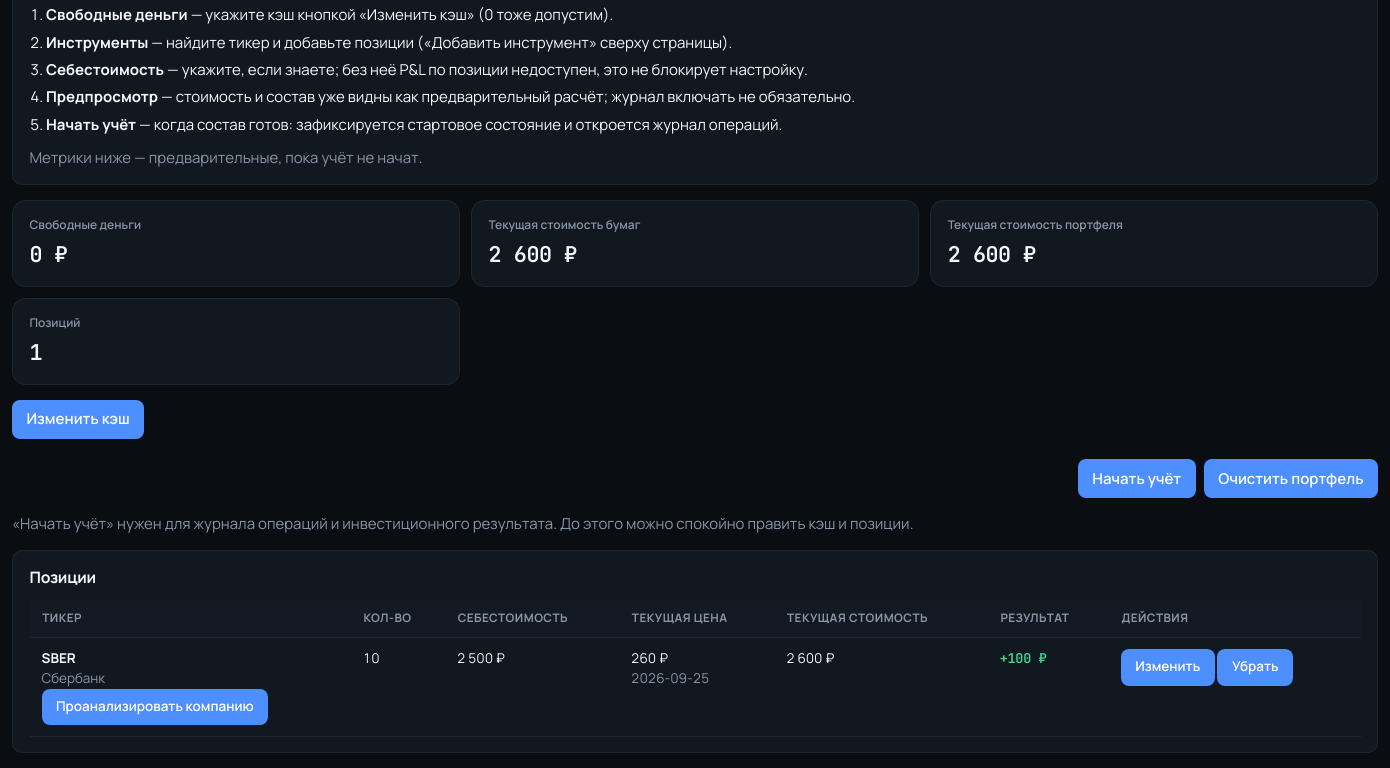
it: MyPortfolioPage › removes a DRAFT position immediately
The width and height of the screenshot is (1390, 768).
(page scrolled)
Step 1. Click the button with test id "draft-position-remove-11" → coordinates (1255, 667), box [1217,649,1293,686]
(page scrolled)
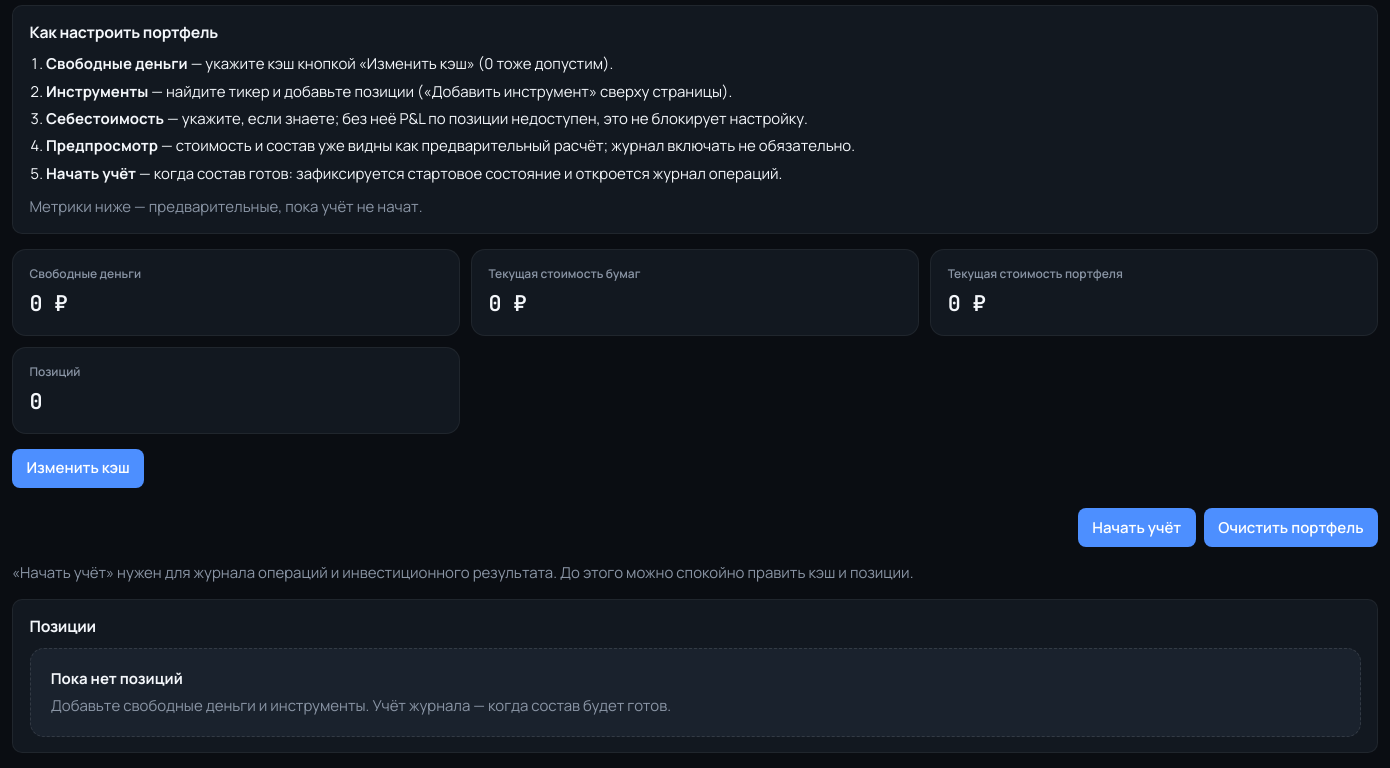
Check: the text "Пока нет позиций" is shown, box [51,668,183,689]
